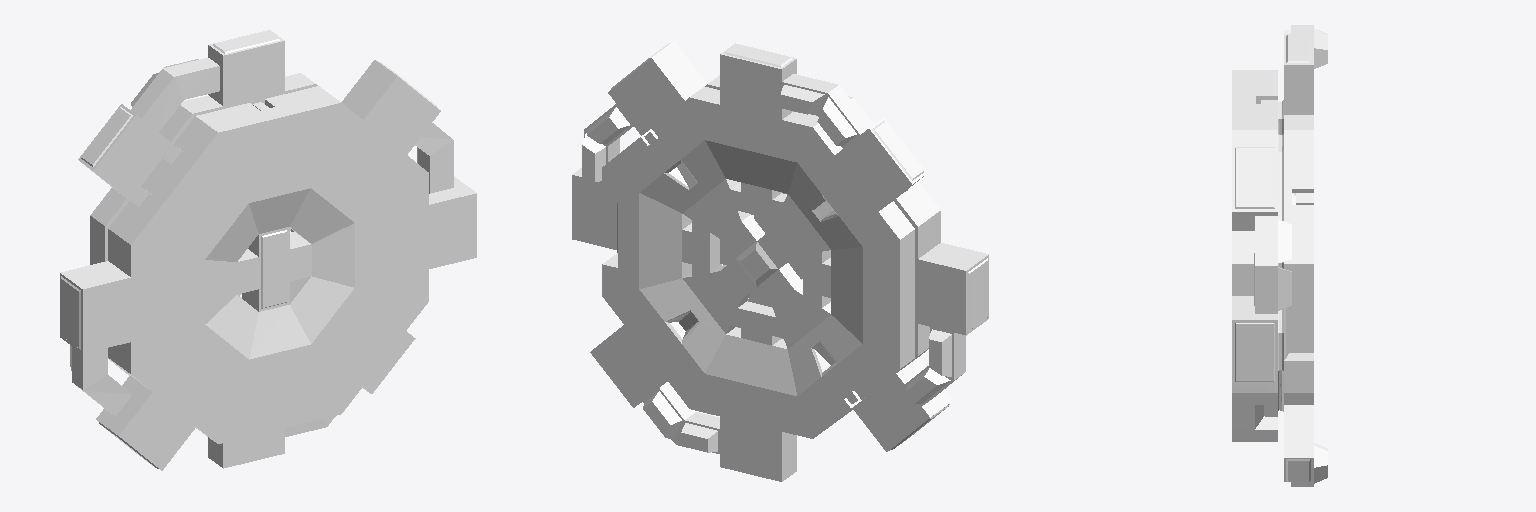
Rendered from carousel_Lightmap.obj.
3 renders of one model, left to right at view 1: azimuth 30°, elevation 25°; view 2: azimuth 150°, elevation 25°; view 3: azimuth 270°, elevation 25°, orthographic.
Parts seen in each view (by area): view 1: carousel_Lightmap_0, carousel_Lightmap_1, carousel_Lightmap_14, carousel_Lightmap_11, carousel_Lightmap_5, carousel_Lightmap_12, carousel_Lightmap_13, carousel_Lightmap_15, carousel_Lightmap_16, carousel_Lightmap_6, carousel_Lightmap_4; view 2: carousel_Lightmap_1, carousel_Lightmap_0, carousel_Lightmap_5, carousel_Lightmap_6, carousel_Lightmap_4, carousel_Lightmap_19, carousel_Lightmap_3, carousel_Lightmap_11, carousel_Lightmap_12, carousel_Lightmap_13, carousel_Lightmap_15, carousel_Lightmap_16 (+2 smaller); view 3: carousel_Lightmap_0, carousel_Lightmap_4, carousel_Lightmap_15, carousel_Lightmap_13, carousel_Lightmap_18, carousel_Lightmap_1, carousel_Lightmap_6, carousel_Lightmap_11.
Part boxes in pixels (x1,y1,x2,y2): carousel_Lightmap_0: (83,73,476,470); carousel_Lightmap_1: (90,41,415,470); carousel_Lightmap_14: (237,227,311,311); carousel_Lightmap_11: (131,58,219,131); carousel_Lightmap_5: (60,261,130,353); carousel_Lightmap_12: (70,345,132,415); carousel_Lightmap_13: (415,123,453,193); carousel_Lightmap_15: (341,60,437,119); carousel_Lightmap_16: (78,104,135,195); carousel_Lightmap_6: (208,30,284,105); carousel_Lightmap_4: (429,176,475,204); carousel_Lightmap_1: (590,97,952,481); carousel_Lightmap_0: (640,75,940,343); carousel_Lightmap_5: (853,243,988,451); carousel_Lightmap_6: (720,43,911,211); carousel_Lightmap_4: (572,58,684,249); carousel_Lightmap_19: (639,265,749,372); carousel_Lightmap_3: (639,193,681,288); carousel_Lightmap_11: (780,74,870,145); carousel_Lightmap_12: (906,329,965,403); carousel_Lightmap_13: (582,107,633,181); carousel_Lightmap_15: (611,41,706,100); carousel_Lightmap_16: (869,118,927,209); carousel_Lightmap_0: (1232,70,1313,441); carousel_Lightmap_4: (1232,296,1277,384); carousel_Lightmap_15: (1232,145,1277,230); carousel_Lightmap_13: (1254,216,1291,313); carousel_Lightmap_18: (1282,296,1313,392); carousel_Lightmap_1: (1284,405,1327,486); carousel_Lightmap_6: (1284,34,1313,114); carousel_Lightmap_11: (1291,25,1327,68).
Bounding box in the file's own units: 3202 × 3202 × 670.